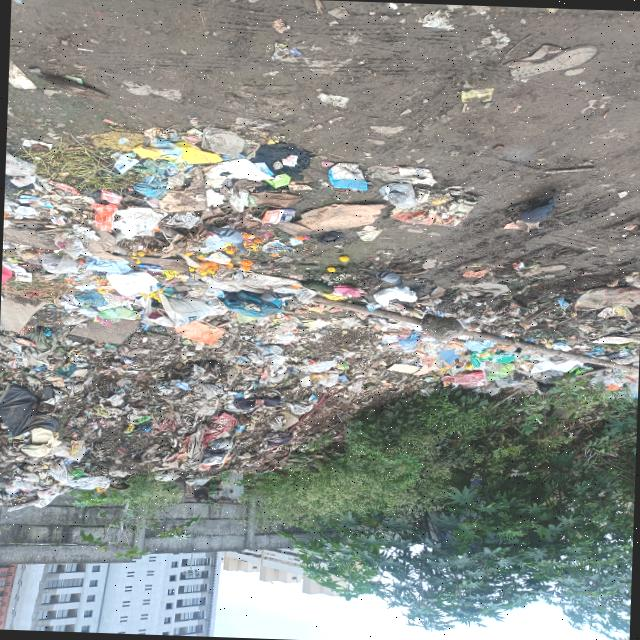garbage: (0, 121, 313, 508), (309, 284, 640, 405)
